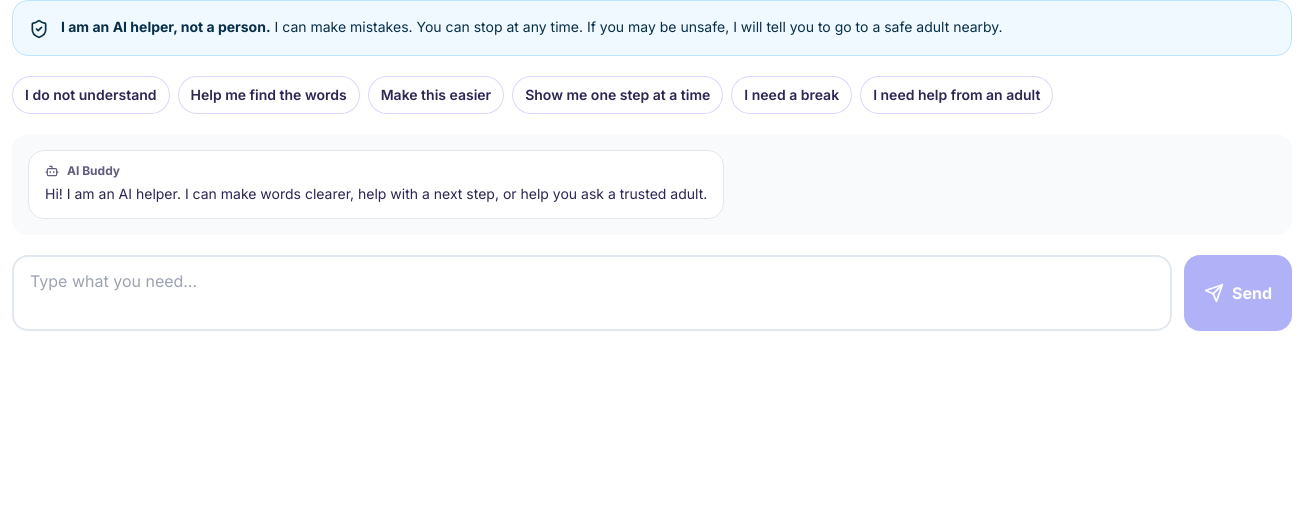
Test: guest Support Passport hand-off › uses the guest child Support Passport and preferred name for Buddy context
Click the button "Make this easier" at {"x": 436, "y": 95}, box [368,76,504,114]
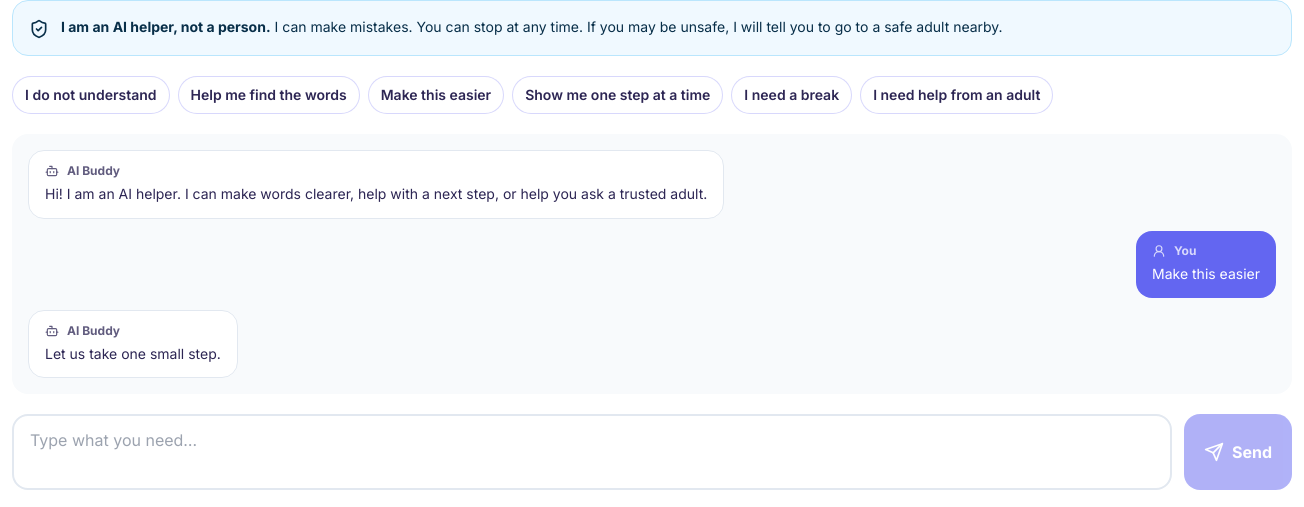
Expected: the text "Let us take one small step." is shown, [45,342,221,365]
